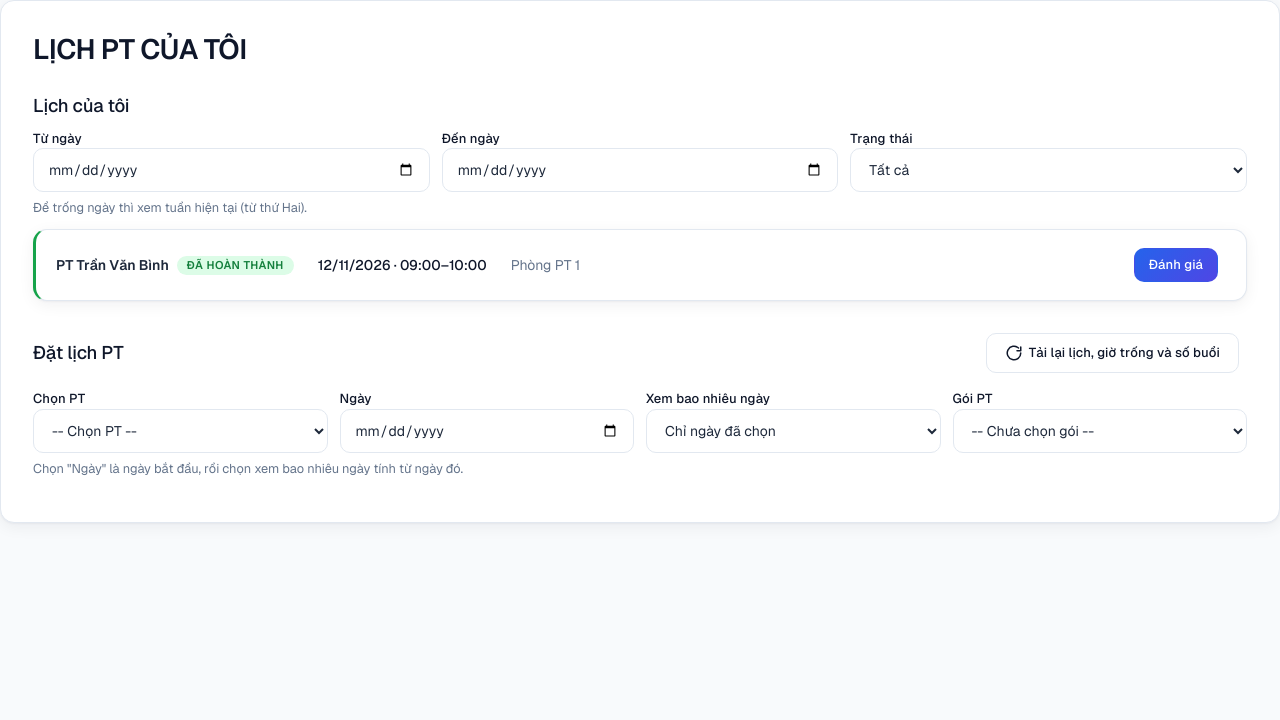
US-65 bước 3: Member gửi và xem đánh giá buổi PT trên trang /member/pt-bookings › US-65-TC01: "Xem trước" hiện số sao, nhận xét và cảnh báo không thể sửa sau khi gửi; "Quay lại" không gửi
The image size is (1280, 720).
Step 1. Click the button "Đánh giá" → [1176, 265], box [1134, 248, 1218, 282]
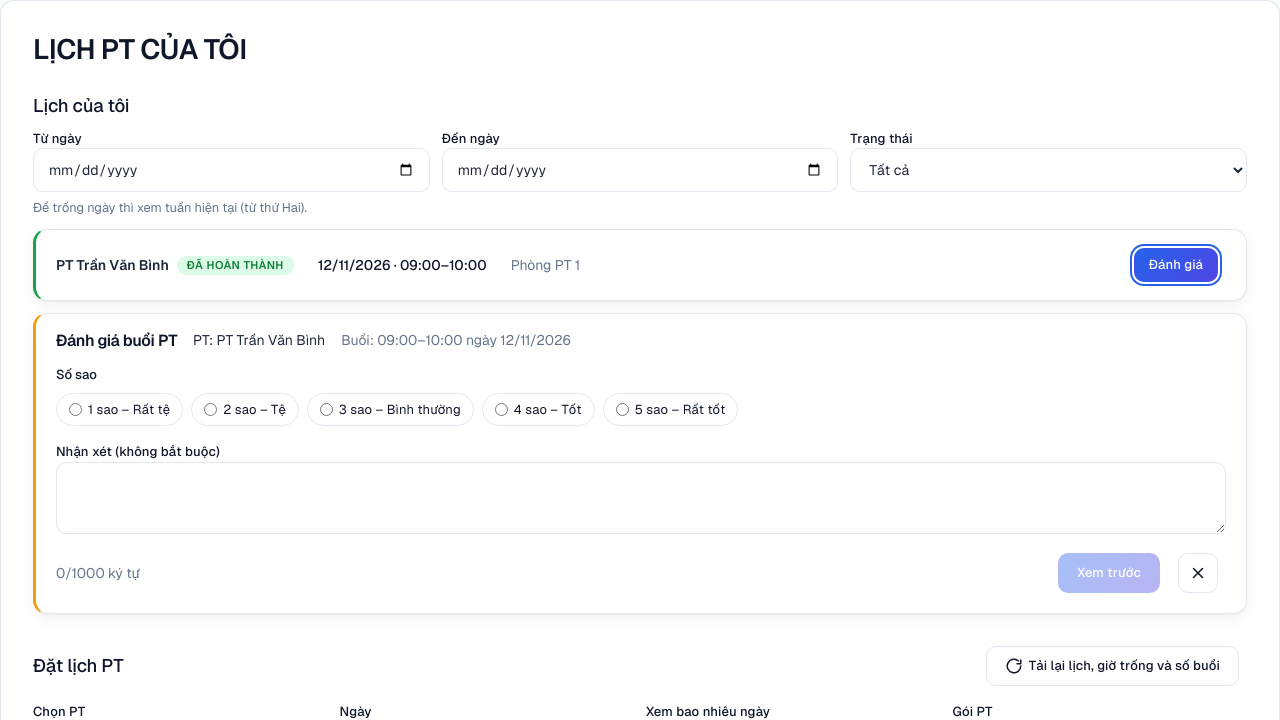
Step 2. Click the radio button labelled "4 sao – Tốt" → [501, 410], box [495, 403, 508, 416]
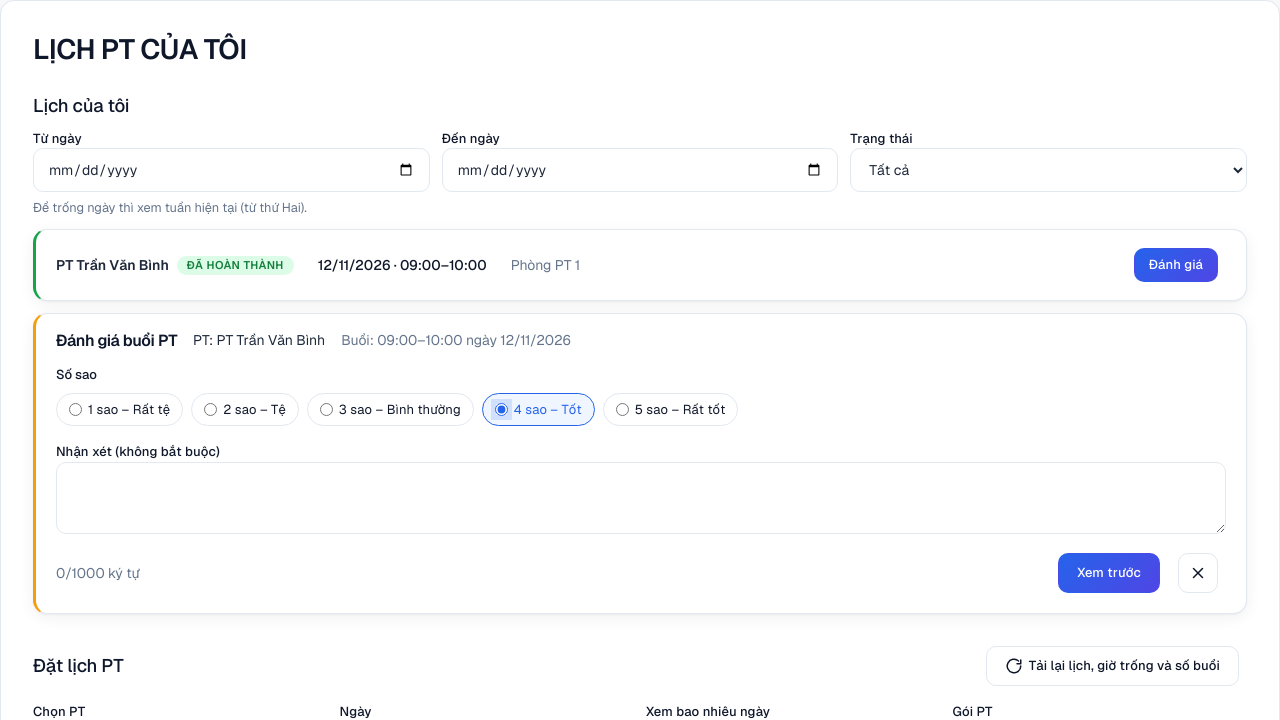
Step 3. Type "PT hướng dẫn kỹ" into the text box labelled "Nhận xét (không bắt buộc)" → [641, 498], box [56, 462, 1226, 534]
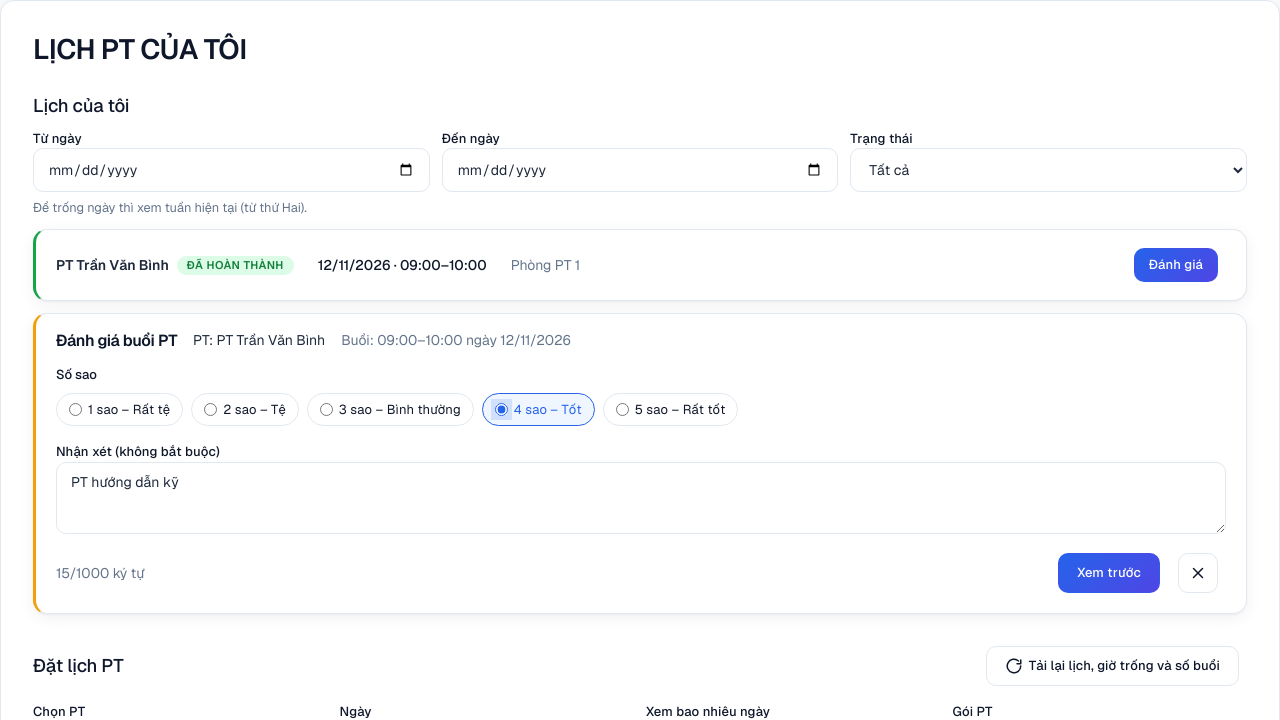
Step 4. Click the button "Xem trước" → [1109, 573], box [1058, 553, 1160, 593]
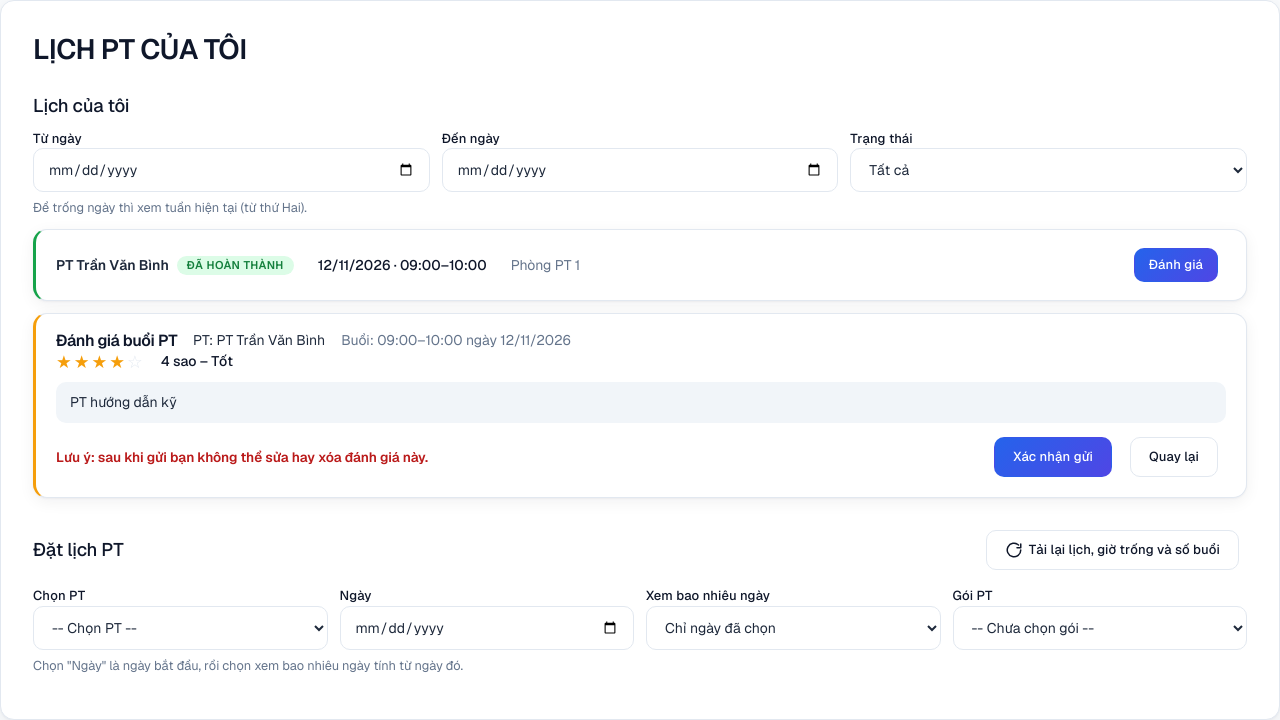
Now the text "4 sao – Tốt" is shown, box [161, 351, 233, 372]
Now the button "Xác nhận gửi" is shown, box [994, 437, 1112, 477]
Now the text "PT hướng dẫn kỹ" is shown, box [56, 382, 1226, 423]
Step 5. Click the button "Quay lại" → [1174, 457], box [1130, 437, 1218, 477]
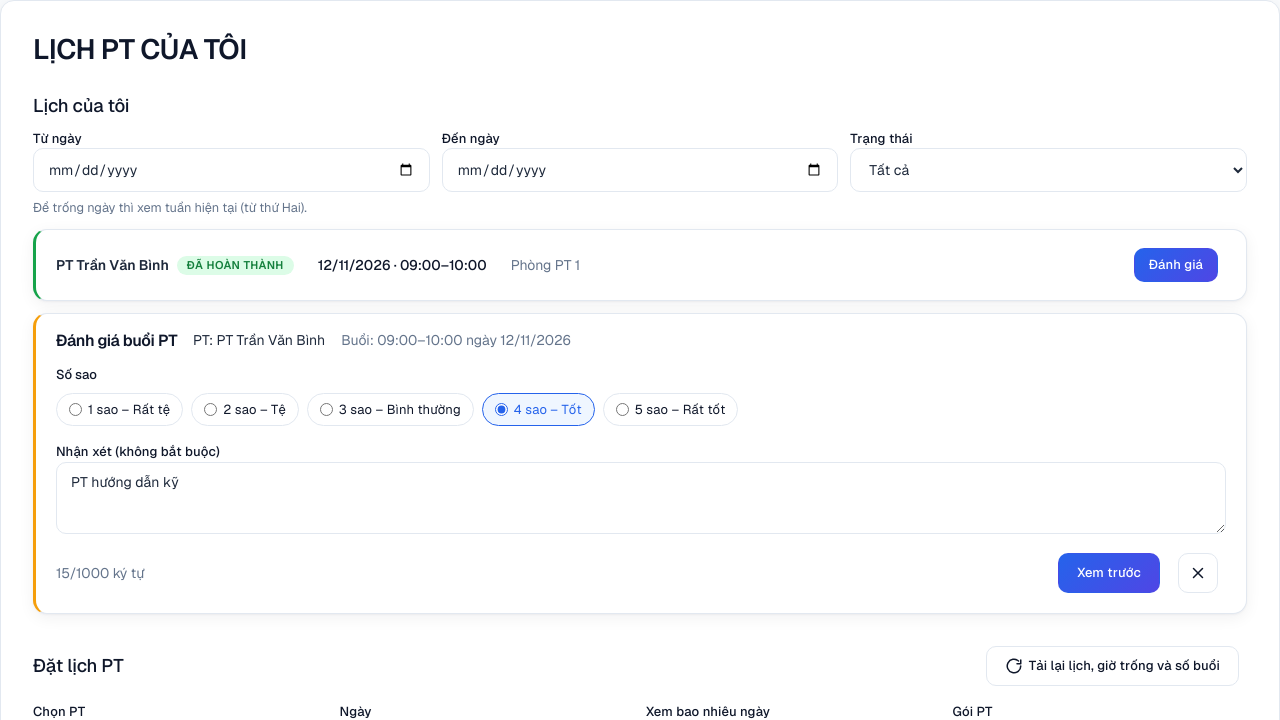
Now the radio button labelled "4 sao – Tốt" is shown, box [495, 403, 508, 416]
